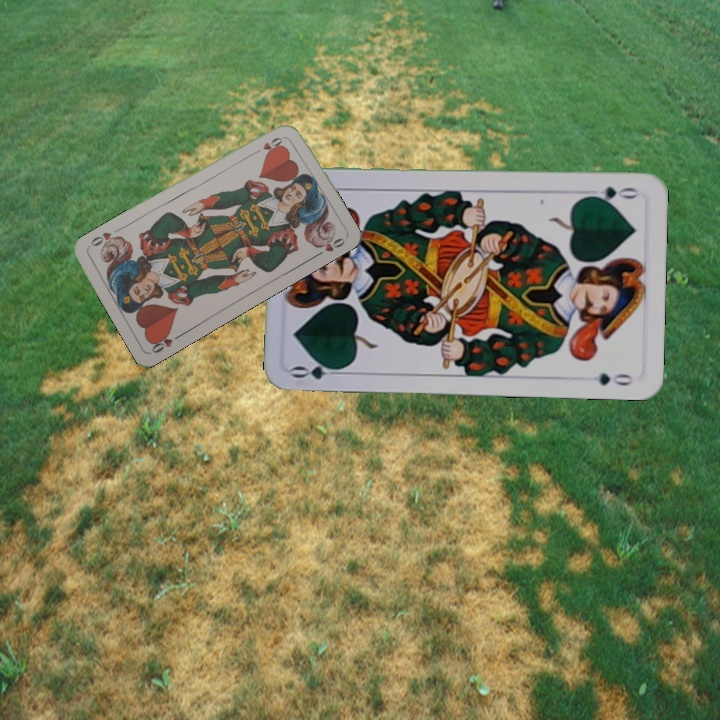GO: (288, 357, 347, 382), (583, 182, 641, 205)
HO: (147, 329, 184, 356), (249, 132, 287, 157)
